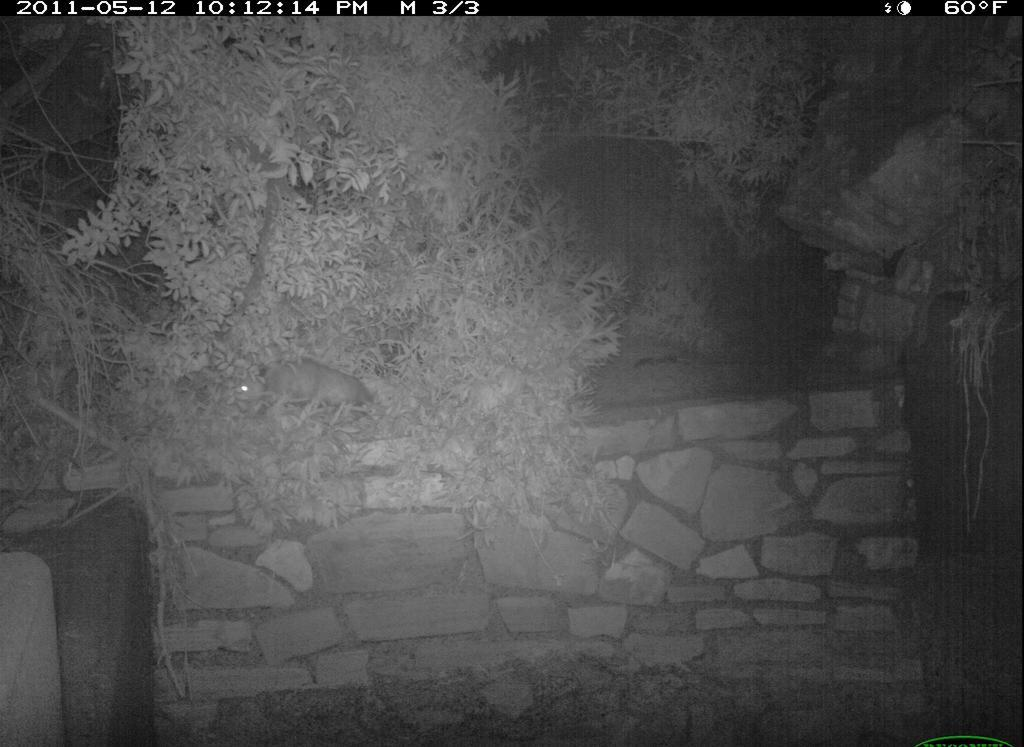opossum: (230, 351, 388, 438)
